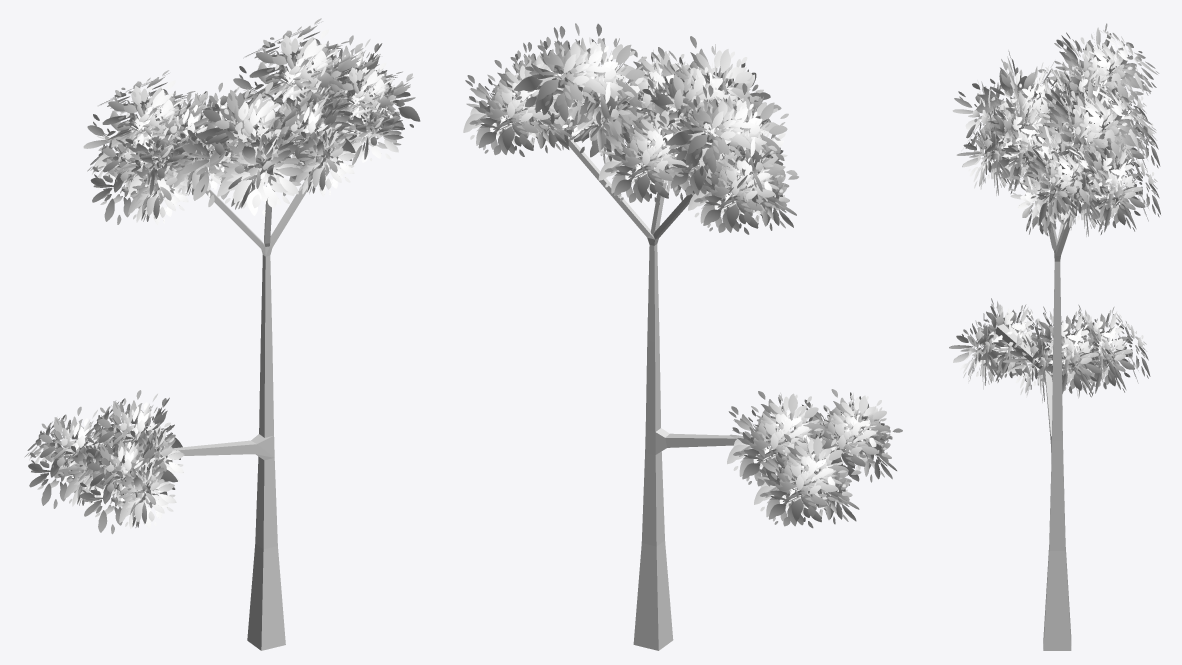
File: tree03.fbx
The picture shows the model from 3 angles, left to right: view 1: azimuth 30°, elevation 25°; view 2: azimuth 150°, elevation 25°; view 3: azimuth 270°, elevation 25°; orthographic projection. The views are drawn at different scales.
Parts seen in each view (by area): view 1: treeleaf_02, treebark_02; view 2: treeleaf_02, treebark_02; view 3: treeleaf_02, treebark_02.
Boxes of the visible parts, x1,y1,x2,y2 form: treeleaf_02: (24,18,420,534); treebark_02: (54,124,339,650); treeleaf_02: (463,23,902,528); treebark_02: (518,117,853,650); treeleaf_02: (949,23,1160,402); treebark_02: (995,148,1109,650).
Size of the model in its own units: 5731 by 8473 by 2969.
